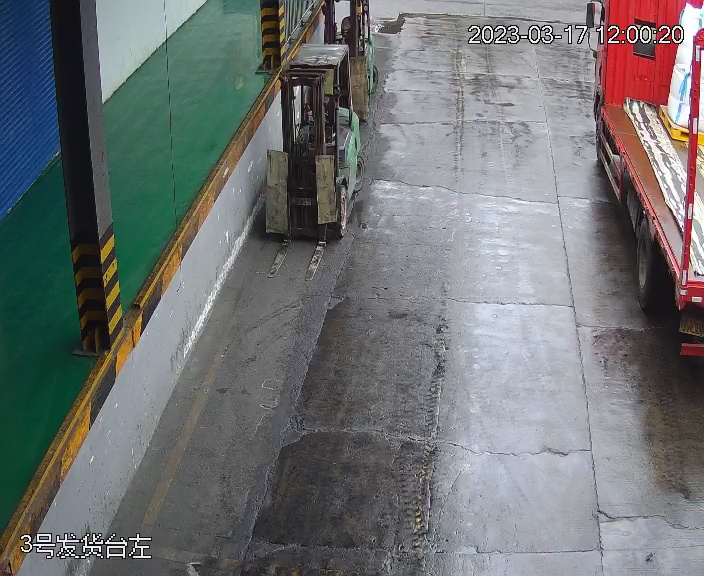truck: (584, 10, 701, 354)
